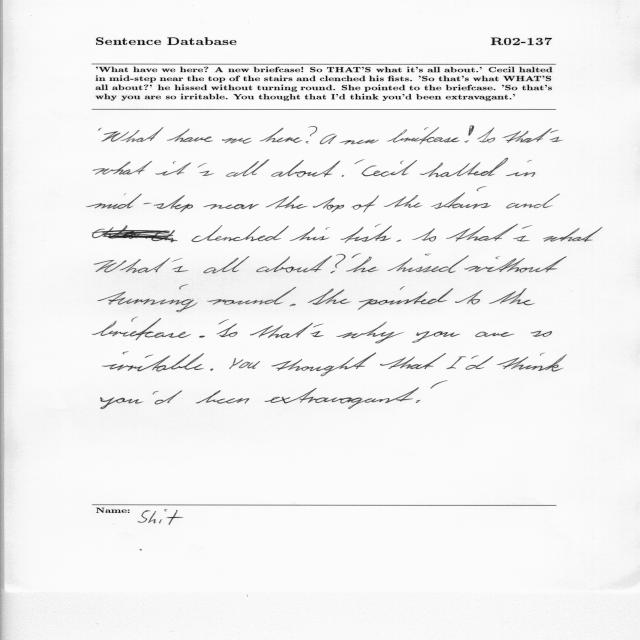word: (265, 381, 447, 409), (92, 225, 289, 243), (98, 285, 197, 312), (271, 353, 376, 376), (358, 286, 453, 310), (92, 317, 191, 340), (87, 193, 193, 212), (102, 352, 204, 371), (464, 256, 567, 273), (256, 254, 346, 273), (420, 158, 508, 177), (387, 126, 474, 145), (207, 287, 296, 305), (387, 254, 469, 273), (336, 322, 404, 343), (497, 353, 567, 372), (431, 187, 491, 209), (446, 224, 518, 241), (272, 160, 341, 177), (94, 258, 170, 273), (380, 353, 446, 369), (260, 126, 318, 143), (250, 323, 313, 338), (340, 225, 392, 243), (362, 160, 417, 177), (102, 127, 164, 142), (543, 227, 602, 242), (204, 256, 250, 274), (226, 159, 269, 177), (93, 161, 152, 174), (489, 289, 534, 306), (506, 194, 560, 208), (196, 390, 250, 404), (502, 128, 552, 143), (308, 289, 351, 305), (167, 129, 213, 142), (412, 331, 460, 343), (290, 227, 330, 241), (266, 196, 307, 209), (155, 162, 191, 176), (101, 397, 143, 409), (346, 257, 379, 272), (384, 195, 422, 208), (506, 160, 535, 177), (313, 198, 344, 213), (352, 196, 379, 213), (466, 355, 494, 370), (153, 391, 182, 405), (455, 290, 483, 304), (229, 358, 260, 369), (514, 226, 533, 242), (413, 229, 436, 242), (203, 204, 259, 209), (217, 324, 238, 337), (477, 128, 495, 143), (446, 356, 466, 369), (172, 258, 189, 272), (198, 163, 214, 176), (339, 140, 379, 145), (476, 332, 515, 337), (320, 134, 337, 145), (310, 324, 324, 337), (222, 138, 252, 144), (550, 130, 563, 142), (531, 331, 552, 337), (218, 319, 229, 324), (355, 160, 365, 165), (352, 254, 360, 258), (375, 224, 380, 227), (465, 140, 469, 143), (290, 304, 296, 306), (199, 336, 205, 338), (416, 400, 420, 403), (396, 240, 401, 242), (210, 368, 213, 371), (306, 141, 309, 143), (99, 128, 101, 130), (342, 175, 344, 177)
